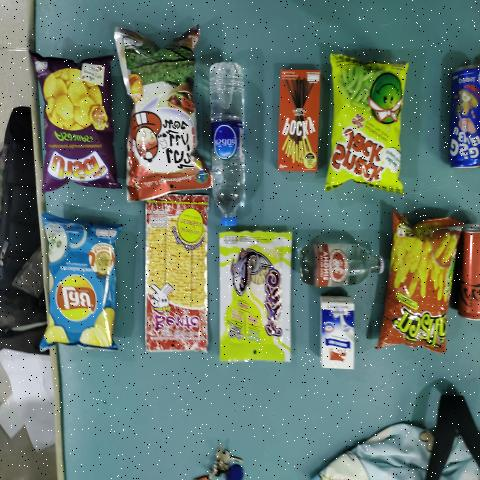bento_red: (148, 207, 208, 350)
crystal: (214, 57, 246, 232)
lay_blue: (45, 231, 113, 344)
party_purple: (46, 65, 111, 183)
pepsi_blue: (450, 60, 480, 164)
pokki: (278, 71, 322, 171)
singha_soda: (299, 235, 389, 293)
snack_jack: (335, 63, 400, 182)
taokaenoi: (124, 39, 198, 192)
thai_denmark: (321, 306, 354, 365)
twisco: (389, 221, 453, 343)
